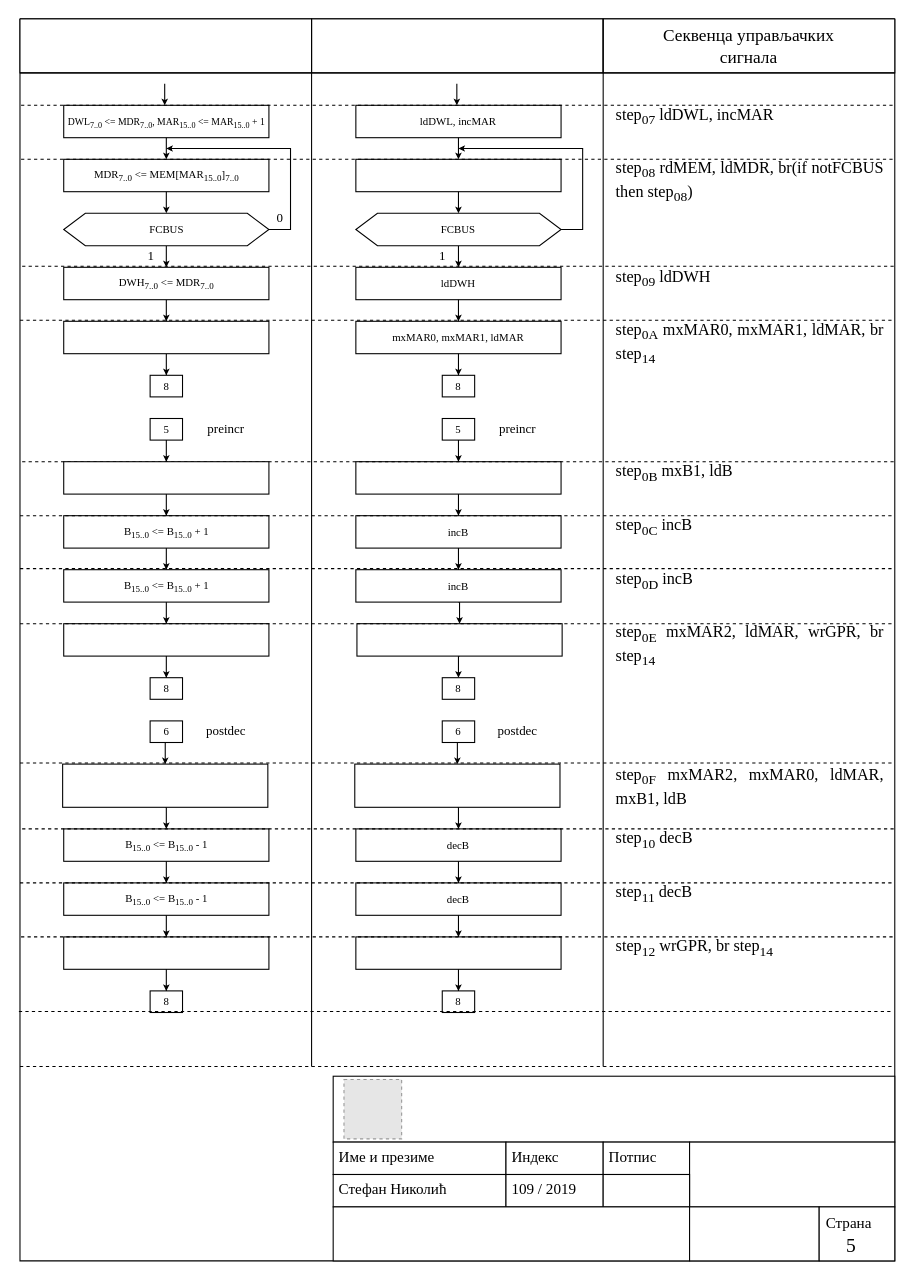
Some shapes in this 917 by 1280 pixel diagram are drawn without their labels. Grey dashed boxes stand in for pictures. The box of each missing label's shape, as (x1, y1, x2, y2) in pixels:
B 15..0 <= R[IR 19..17 ] 15..0: (63, 461, 269, 494)
MAR 15..0 <= B 15..0 , R[IR 19..17 ] 15..0 <= B 15..0: (63, 623, 269, 656)
MAR 15..0 <= DW 15..0: (63, 320, 269, 354)
MAR 15..0 <= R[IR 19..17 ] 15..0, B 15..0 <= R[IR 19..17 ] 15..0: (62, 763, 268, 807)
mxB1, ldB: (355, 461, 561, 494)
mxMAR2, ldMAR, wrGPR: (356, 623, 562, 656)
mxMAR2, mxMAR0, ldMAR, mxB1, ldB: (354, 763, 560, 807)
R[IR 19..17 ] 15..0 <= B 15..0: (63, 936, 269, 969)
rdMEM, ldMDR: (355, 158, 561, 192)
wrGPR: (355, 936, 561, 969)
Датум 25.09.2021.: (688, 1206, 819, 1261)
Дијаграм тока микрооперација: (19, 18, 312, 73)
Дијаграм тока управљачких сигнала: (310, 18, 603, 73)
Назив Основи рачунарске технике 2: (332, 1206, 690, 1261)
Пројекат Задатак 209: (688, 1141, 895, 1207)
Универзитет у Београду Електротехнички факултет: (332, 1075, 895, 1142)
